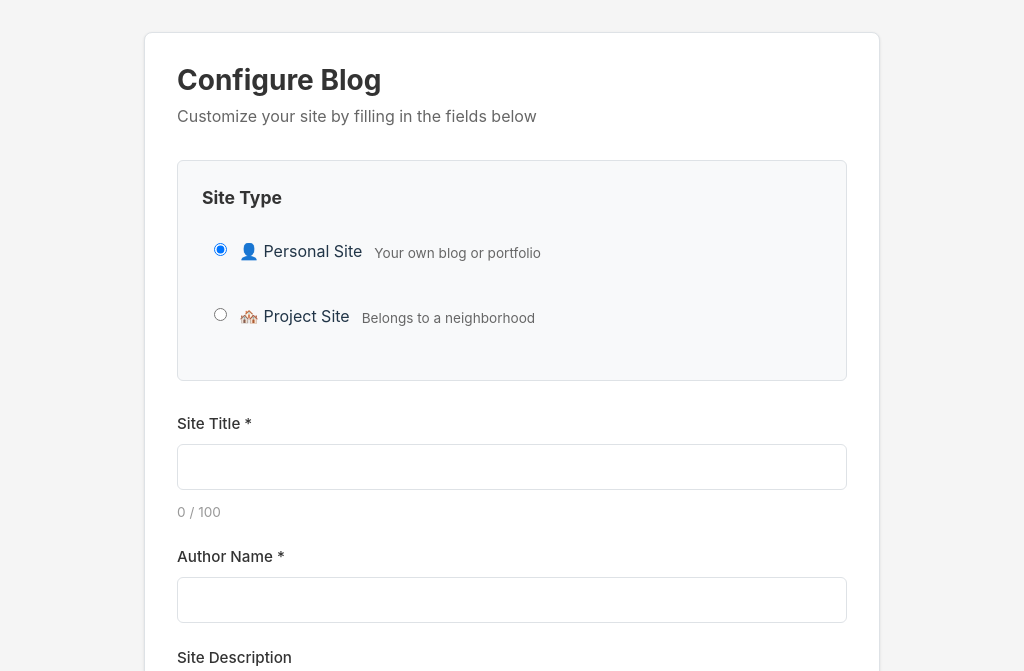
Test case: SiteConfigForm › validates that project sites require nbhd_id
Type "My Blog" into the field labelled "Site Title *" at coordinates (512, 467), box 177,444 -> 847,490
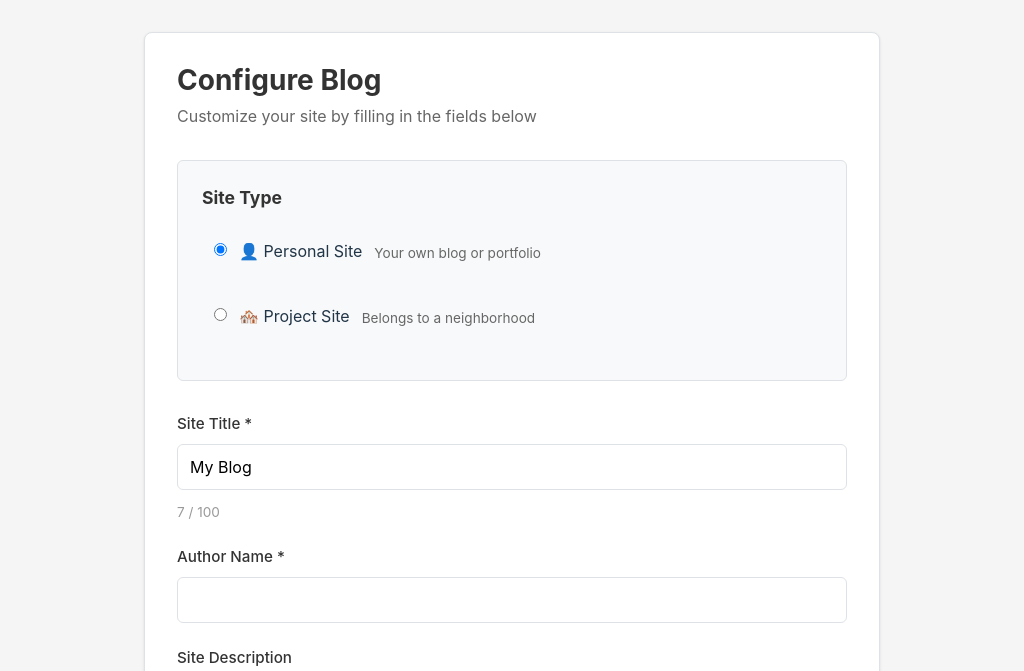
Type "John Doe" into the field labelled "Author Name *" at coordinates (512, 600), box 177,577 -> 847,623
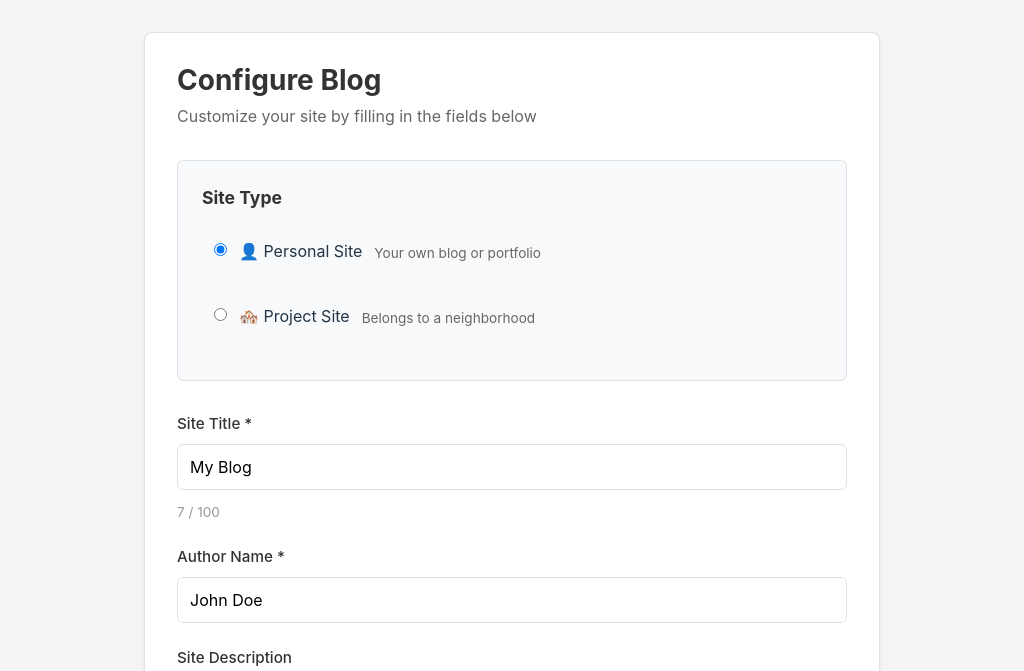
Note: Select project type
Click the radio button labelled "🏘️ Project Site Belongs to a neighborhood" at coordinates (220, 314), box 214,308 -> 227,321
(page scrolled)
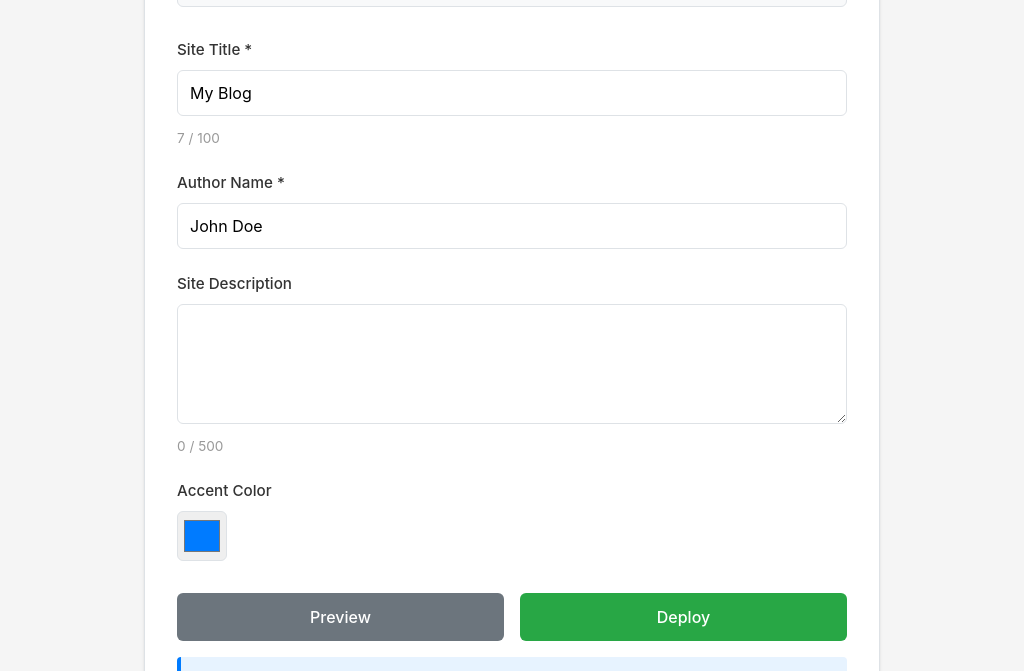
Note: Try to deploy without selecting neighborhood
Click the button "Deploy" at coordinates (684, 617), box 520,593 -> 847,641
(page scrolled)
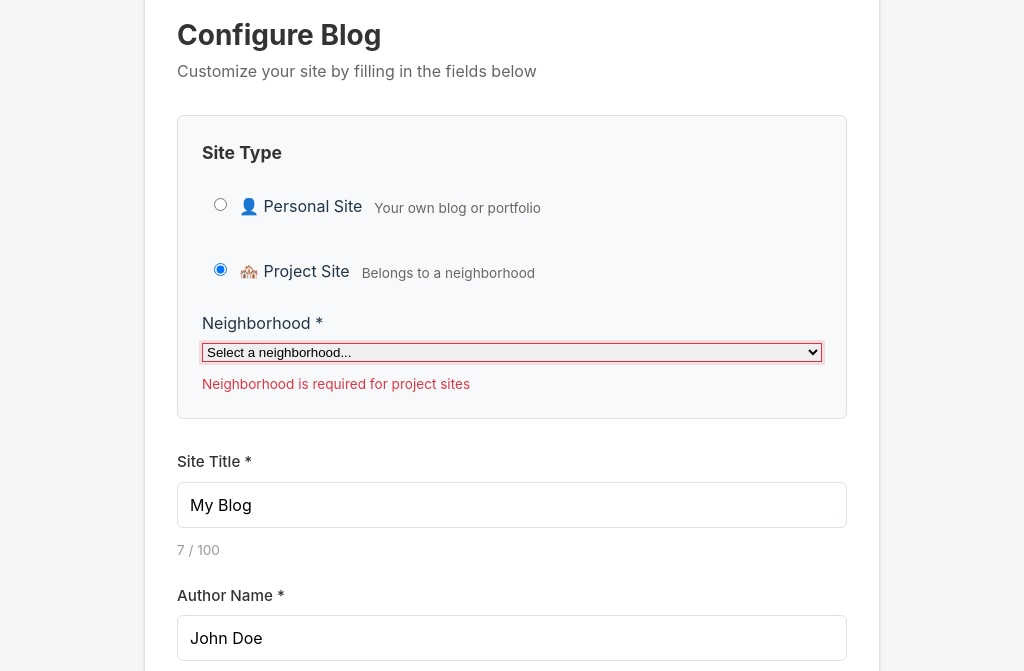
Result: the text "Neighborhood is required for project sites" is shown at 202,376 -> 470,392
